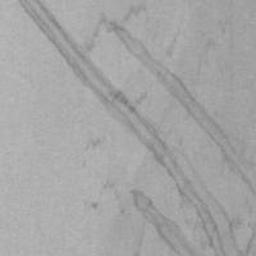Water spot: (14, 0, 256, 256), (111, 20, 256, 201), (132, 188, 201, 256)
